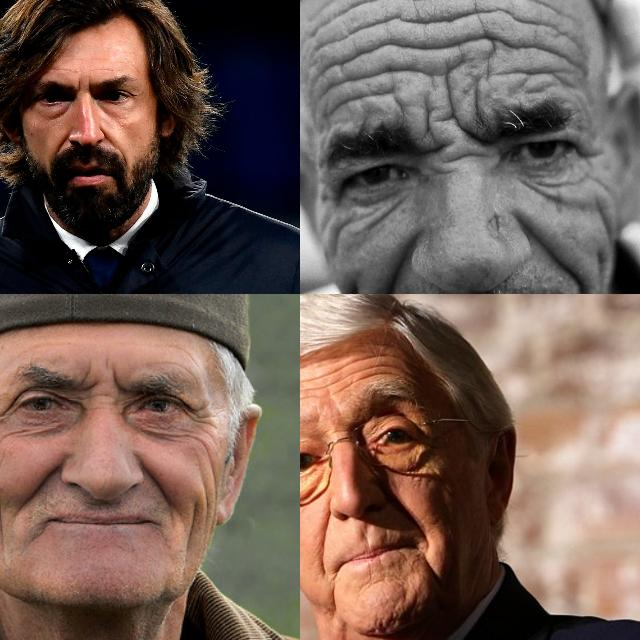chin: (361, 574, 403, 588)
crows_feet: (318, 206, 362, 242), (185, 400, 219, 432), (574, 132, 606, 160), (0, 397, 13, 434)
forehead: (318, 1, 399, 54), (316, 66, 402, 110), (479, 0, 537, 64), (543, 8, 591, 84), (412, 0, 470, 60), (326, 356, 402, 379), (162, 356, 200, 378), (300, 382, 320, 405), (93, 65, 119, 73), (48, 66, 74, 74)
frown_line: (462, 70, 492, 126), (434, 146, 484, 174), (441, 80, 463, 136), (416, 98, 440, 146), (72, 362, 104, 392), (109, 362, 129, 396), (77, 78, 93, 92)
gummy_smile: (528, 226, 588, 288), (376, 243, 408, 294), (137, 457, 171, 501), (24, 463, 62, 495), (317, 508, 331, 570), (99, 127, 118, 147), (54, 132, 70, 150)
masseter: (178, 499, 202, 551), (196, 442, 226, 482), (0, 499, 11, 541), (0, 442, 13, 476)
sad_smile: (422, 554, 446, 588), (328, 578, 342, 612)
